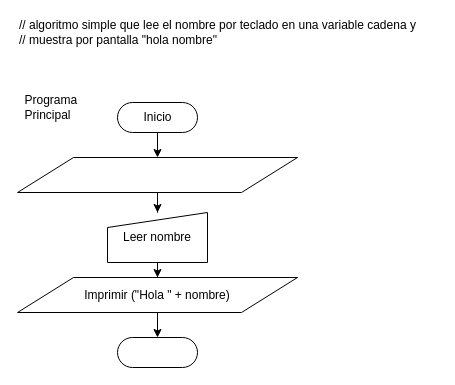
This 455x385 diagram has some shape labels left out. Here are the shapes that lost their labels. From the top down, the centre of each, then its label:
point (157, 174): Imprimir "Introduzca un nombre"
point (157, 352): Fin
